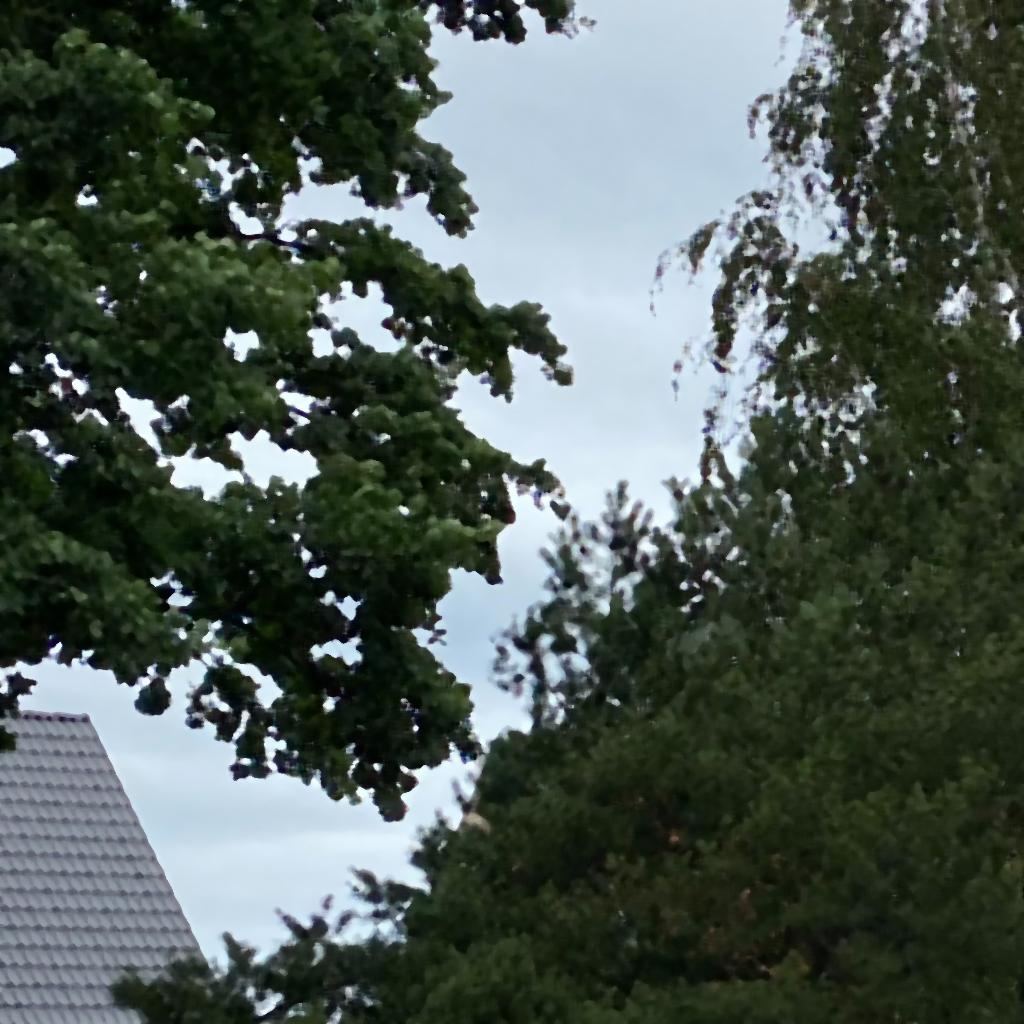tree: (107, 1, 1023, 1023), (1, 1, 584, 822)
